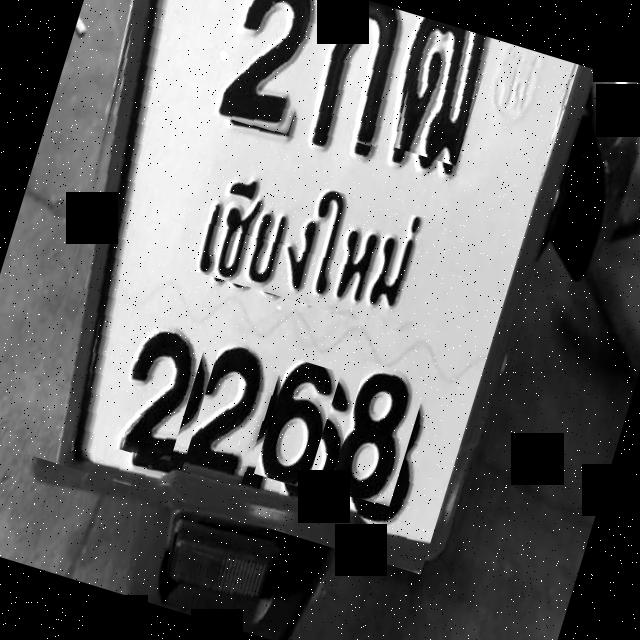letters: (203, 0, 335, 140), (299, 0, 415, 151), (99, 310, 209, 465), (384, 17, 494, 166), (182, 334, 286, 490), (327, 360, 428, 510), (254, 356, 341, 489)
license-plate: (62, 0, 568, 563)
province: (182, 154, 444, 337)
